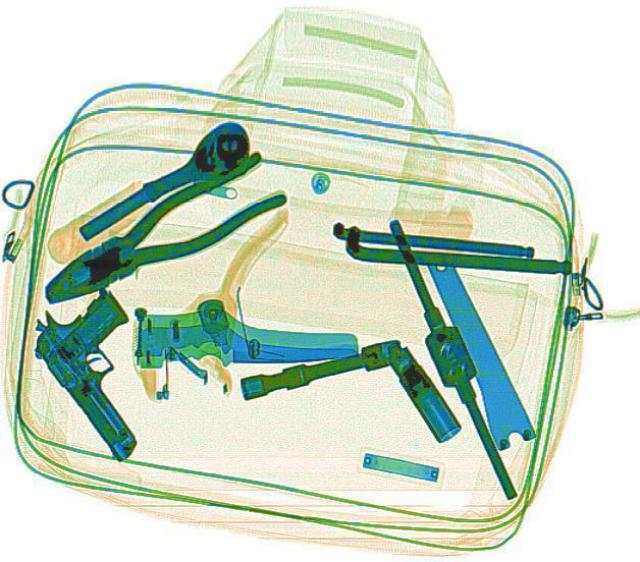Gun: (12, 279, 205, 462)
Pliers: (22, 146, 296, 320)
